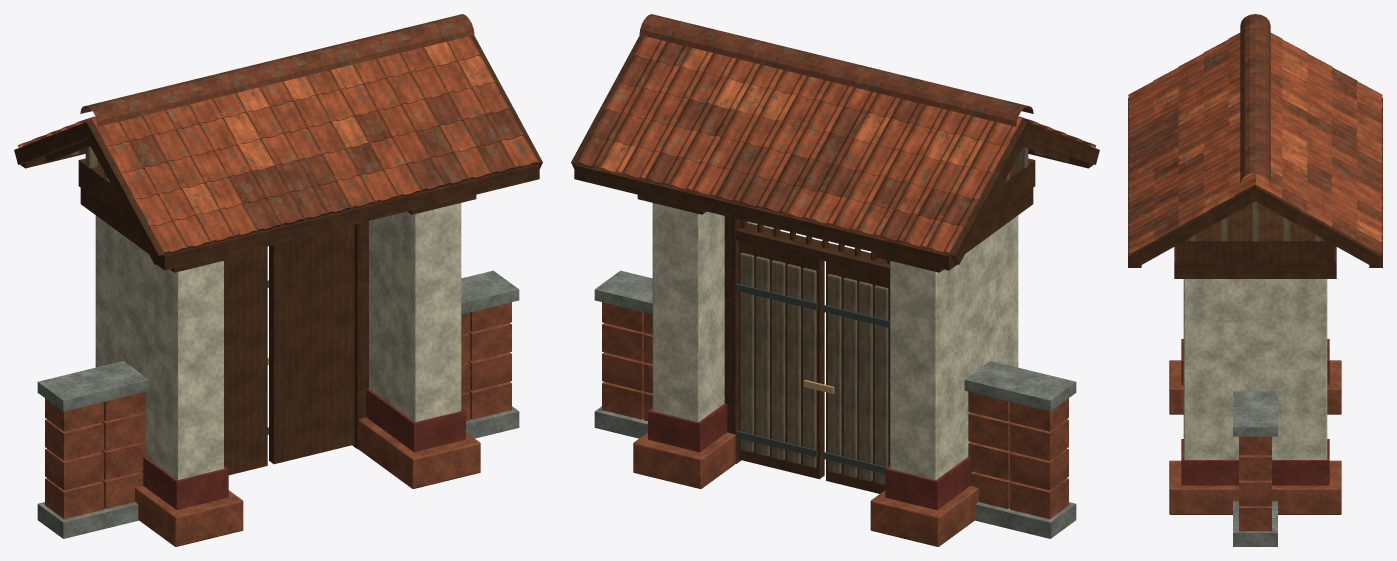
File: BLD_Gateway_Tiled_01.gltf
3 renders of one model, left to right at view 1: azimuth 30°, elevation 25°; view 2: azimuth 150°, elevation 25°; view 3: azimuth 270°, elevation 25°, orthographic. The views are drawn at different scales.
Parts seen in each view (by area): view 1: TF3_BLD_Gateway_Tiled_01; view 2: TF3_BLD_Gateway_Tiled_01; view 3: TF3_BLD_Gateway_Tiled_01.
Boxes of the visible parts, left/top/right/bottom form: TF3_BLD_Gateway_Tiled_01: left=14, top=14, right=542, bottom=546; TF3_BLD_Gateway_Tiled_01: left=571, top=14, right=1099, bottom=546; TF3_BLD_Gateway_Tiled_01: left=1128, top=14, right=1382, bottom=546.
Size of the model in its own units: 4.38 by 3.79 by 2.45.
11 materials, 9 textured.
